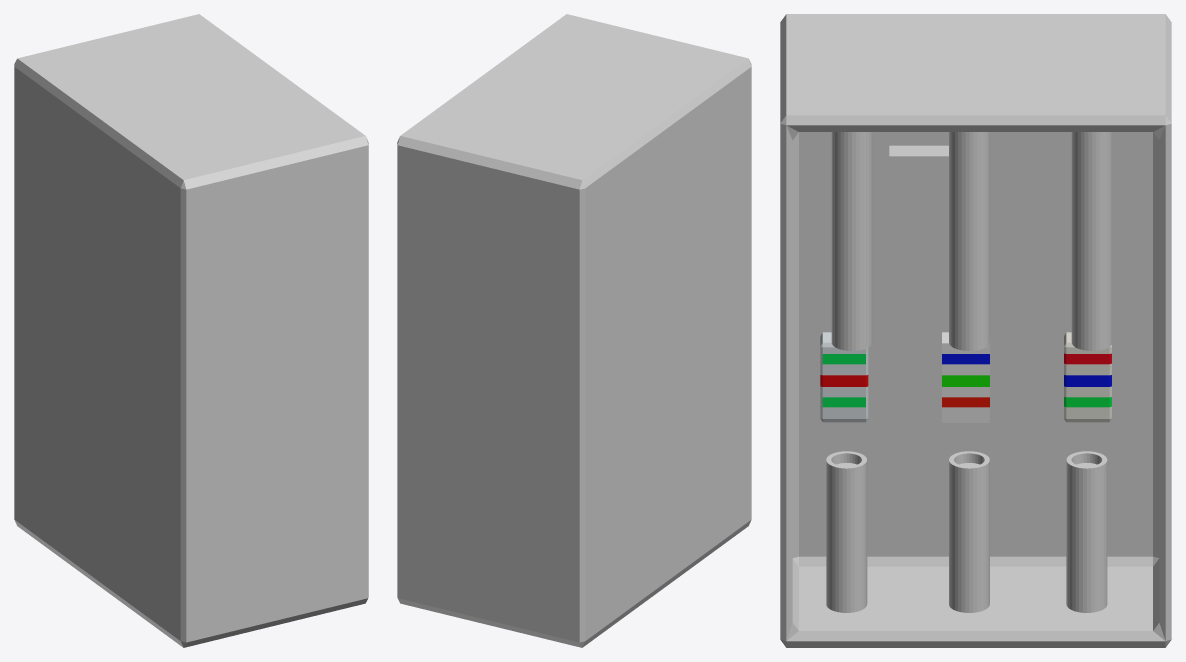
Rendered from boxthingfbx.fbx.
The picture shows the model from 3 angles, left to right: view 1: azimuth 30°, elevation 25°; view 2: azimuth 150°, elevation 25°; view 3: azimuth 270°, elevation 25°; orthographic projection. The views are drawn at different scales.
Parts seen in each view (by area): view 1: Cube; view 2: Cube; view 3: Cube, Circle.003, Circle.005, Circle.004, Circle, Circle.002, Circle.001, Cube.005, Cube.004, Cube.003, Cube.002, Cube.001.
Boxes of the visible parts, box(x1,y1,x2,y2) form: Cube: box(14, 14, 368, 647); Cube: box(397, 14, 751, 647); Cube: box(780, 14, 1171, 647); Circle.003: box(1071, 132, 1112, 350); Circle.005: box(831, 132, 872, 350); Circle.004: box(949, 132, 989, 350); Circle: box(1066, 451, 1107, 612); Circle.002: box(826, 451, 867, 612); Circle.001: box(949, 451, 989, 612); Cube.005: box(889, 145, 948, 247); Cube.004: box(1028, 132, 1116, 241); Cube.003: box(820, 332, 868, 422); Cube.002: box(942, 332, 989, 422); Cube.001: box(1064, 332, 1111, 422).
Bounding box in the file's own units: 397 × 944 × 629.
